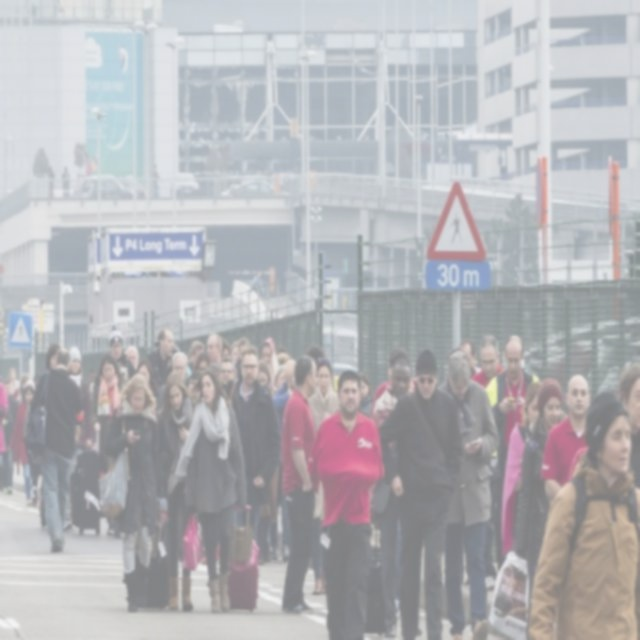pessoa: (524, 388, 639, 638), (378, 346, 466, 638), (306, 366, 388, 638), (173, 368, 252, 618), (435, 348, 499, 638), (102, 371, 162, 616), (276, 355, 328, 619), (484, 334, 542, 568), (510, 374, 574, 586), (28, 342, 86, 556), (512, 376, 565, 592), (228, 343, 283, 542), (26, 342, 74, 533), (158, 370, 194, 614), (306, 354, 339, 596), (540, 370, 596, 512), (0, 358, 47, 509), (88, 353, 126, 538), (185, 331, 284, 395), (67, 344, 98, 451), (618, 352, 640, 491), (371, 346, 411, 408), (144, 323, 178, 389), (469, 333, 507, 389), (158, 348, 191, 412), (270, 357, 299, 427), (358, 358, 392, 414), (106, 326, 136, 386), (254, 499, 276, 563), (136, 358, 162, 397), (448, 212, 470, 250), (458, 333, 479, 371), (146, 160, 161, 207), (58, 163, 74, 202), (304, 342, 326, 370), (122, 342, 140, 372), (250, 267, 268, 296), (44, 164, 56, 203), (83, 150, 98, 176), (81, 363, 92, 392), (385, 341, 401, 357), (17, 322, 25, 338), (284, 341, 290, 357)
